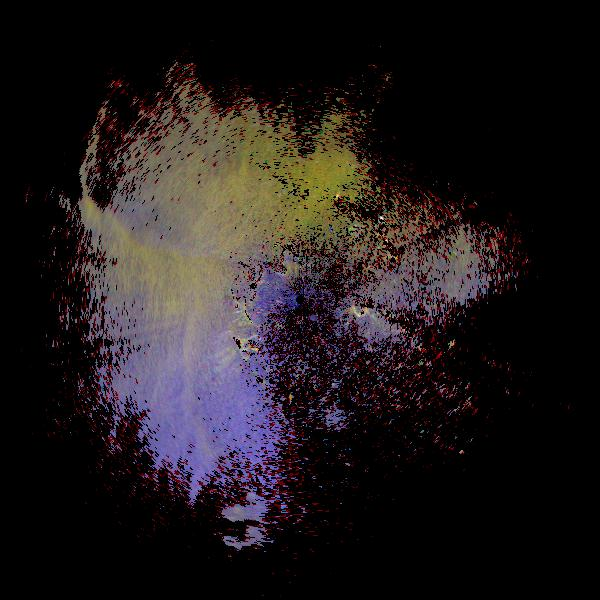roost: (348, 305, 363, 320)
